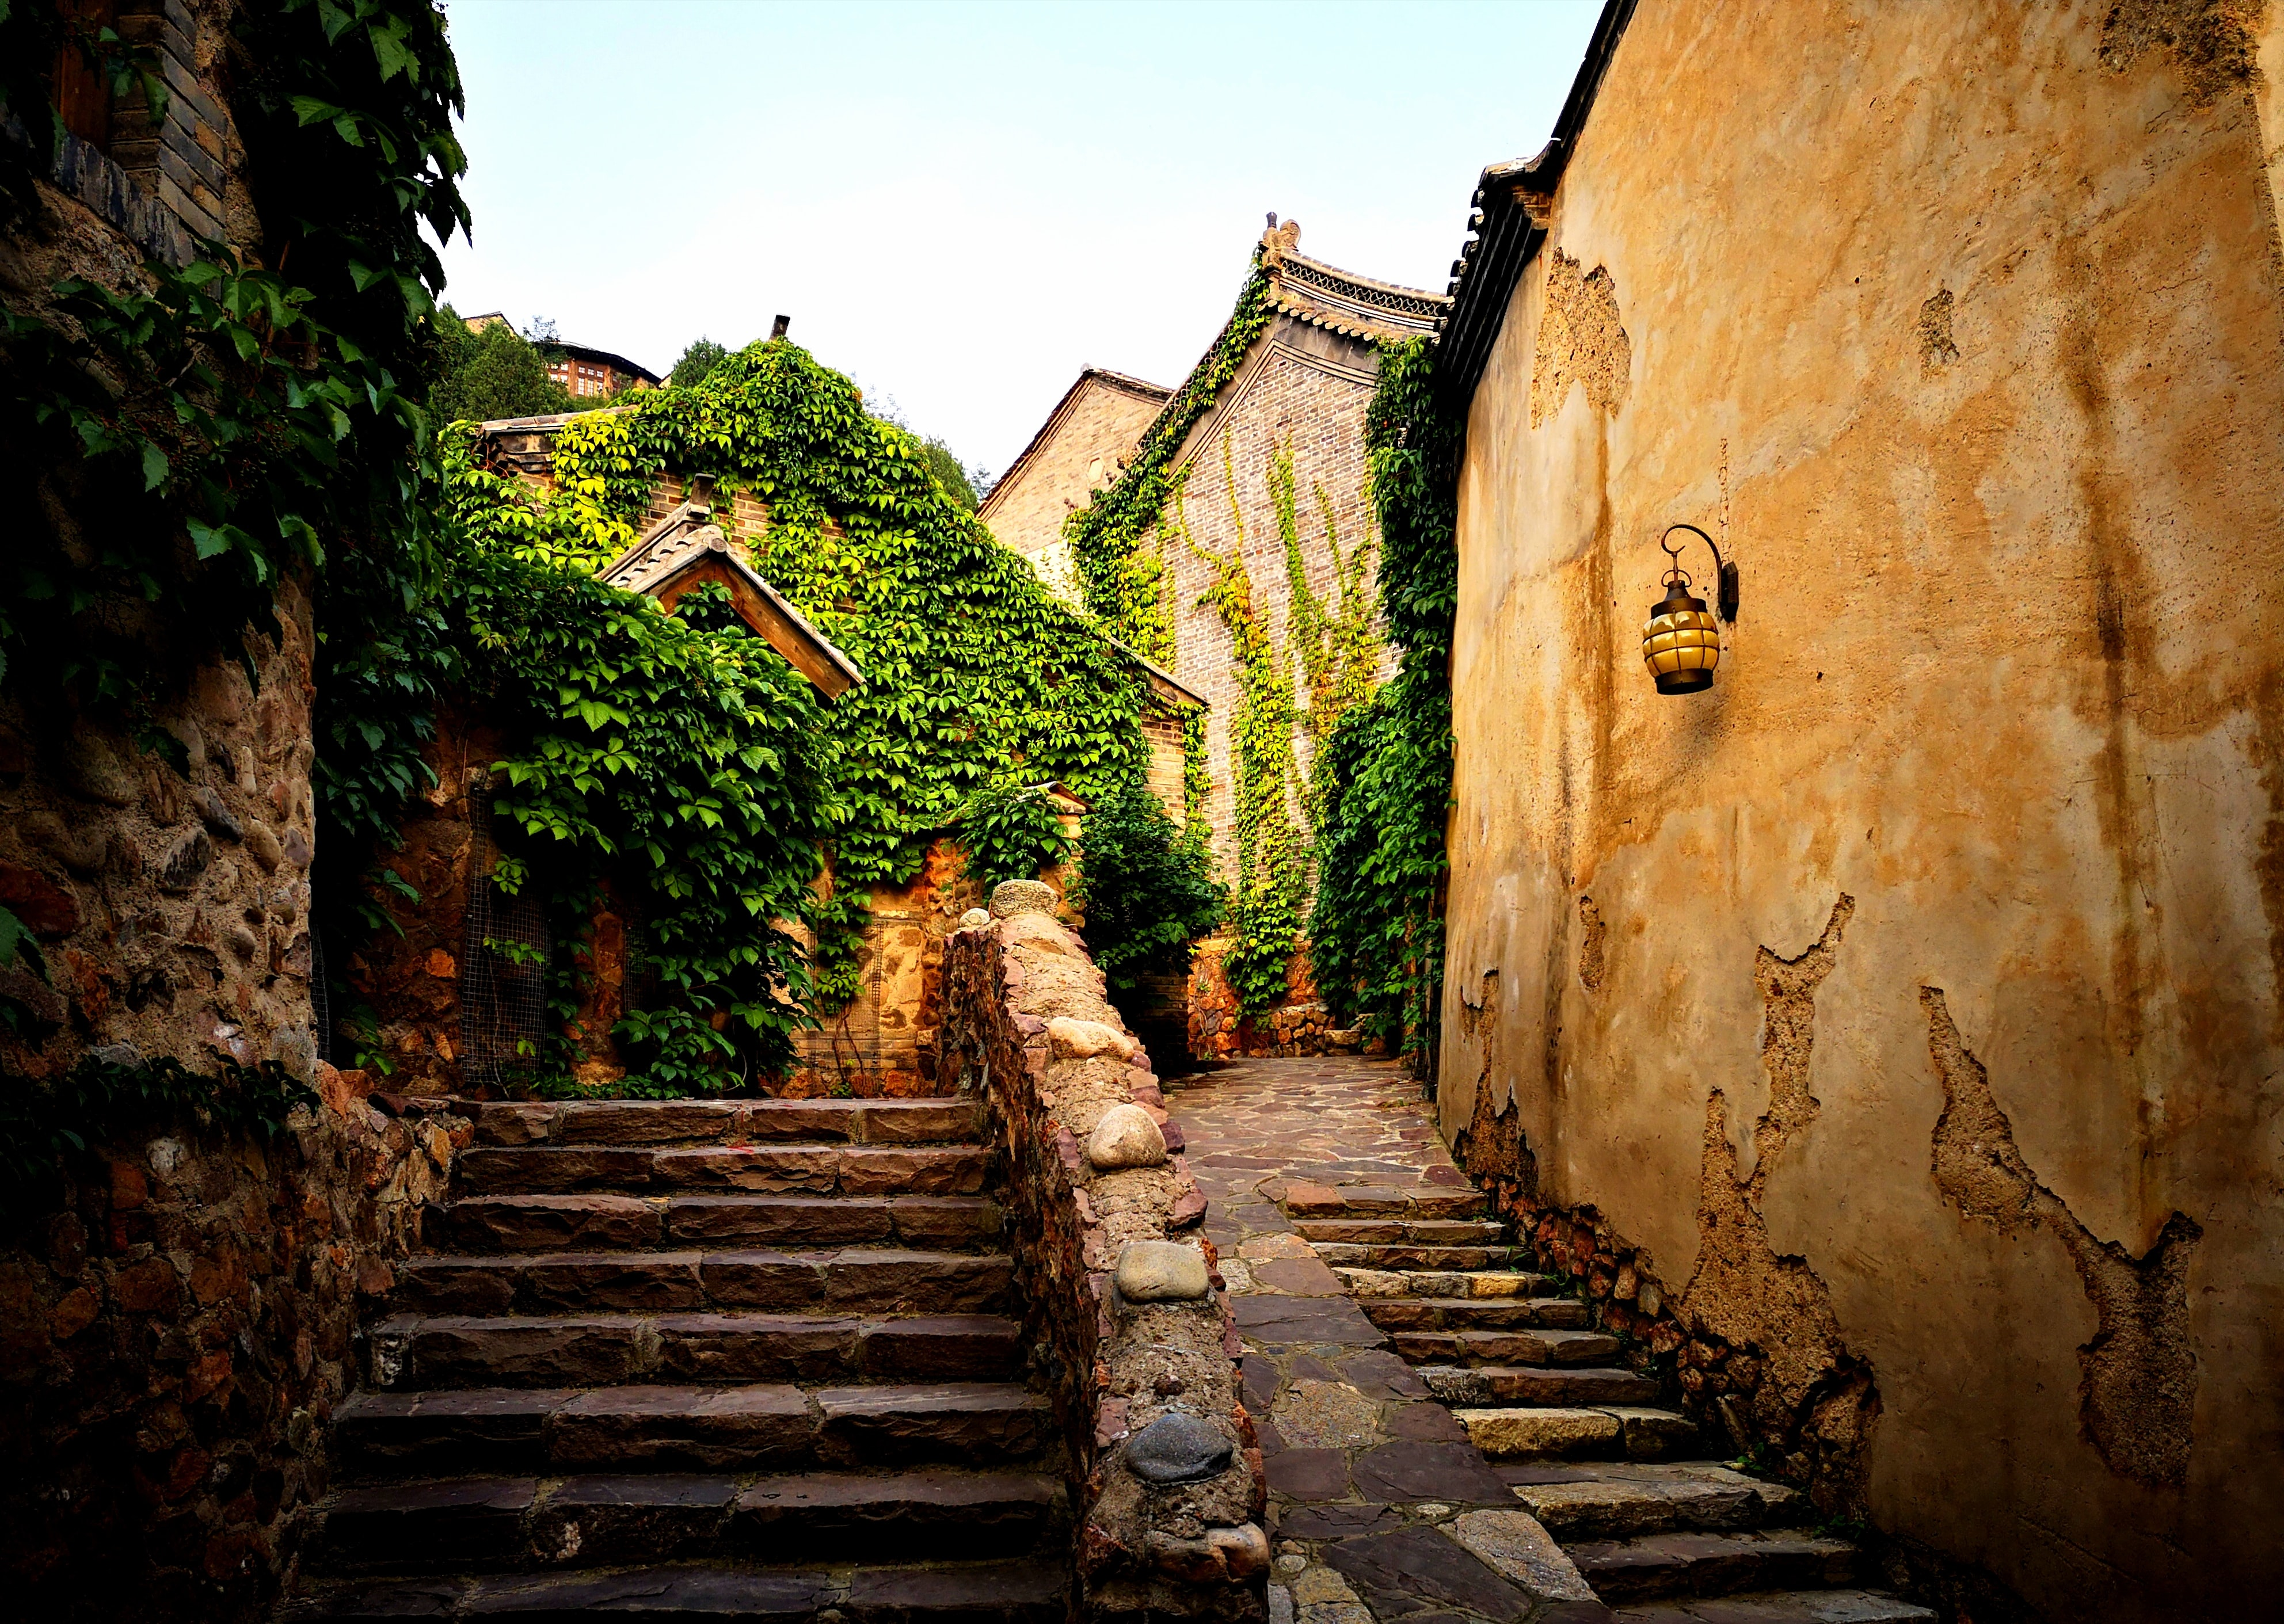upstairs: (441, 1178, 986, 1606)
